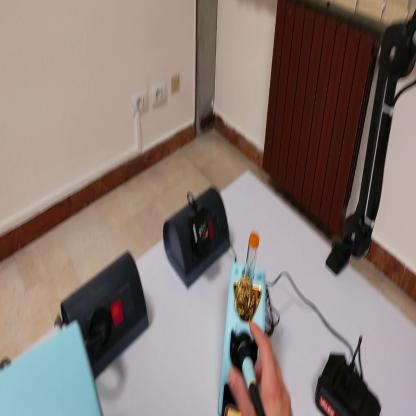electric screwdriver battery: (317, 347, 383, 415)
hand: (229, 320, 294, 414)
socket: (60, 250, 148, 374), (164, 181, 231, 288)
welder base: (219, 244, 273, 415)
welder probe tip: (237, 345, 263, 415)
welder station: (2, 319, 104, 415)
